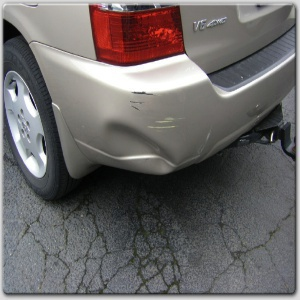bumper_scratch: (87, 84, 215, 162)
